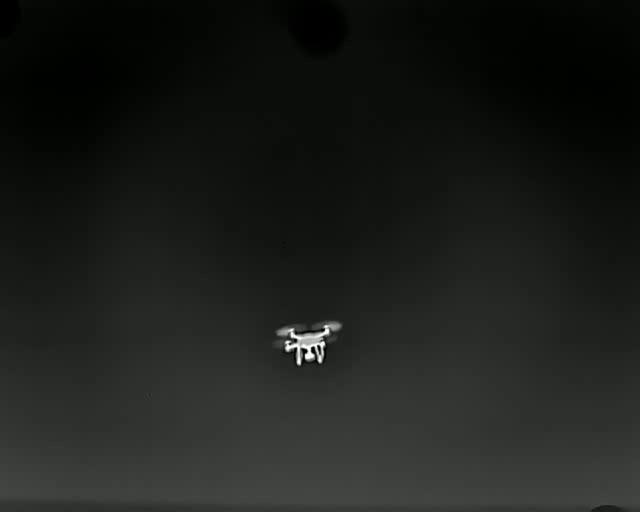DJI-Phantom: (274, 318, 342, 368)
